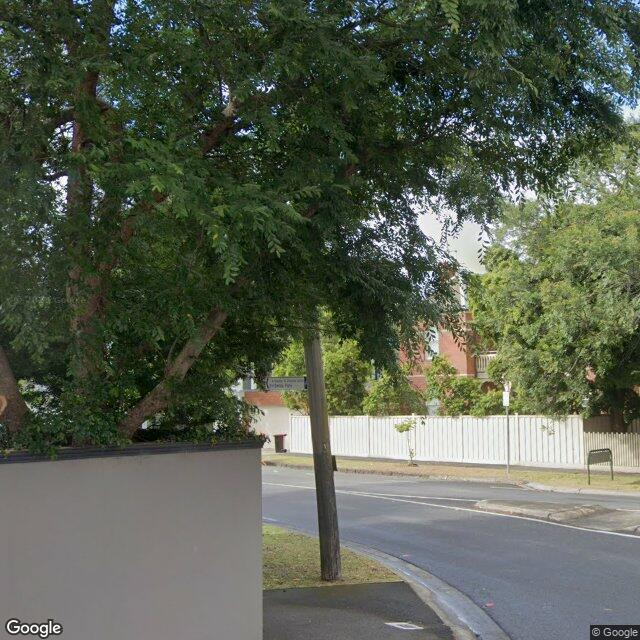timber-pole: (302, 325, 343, 580)
